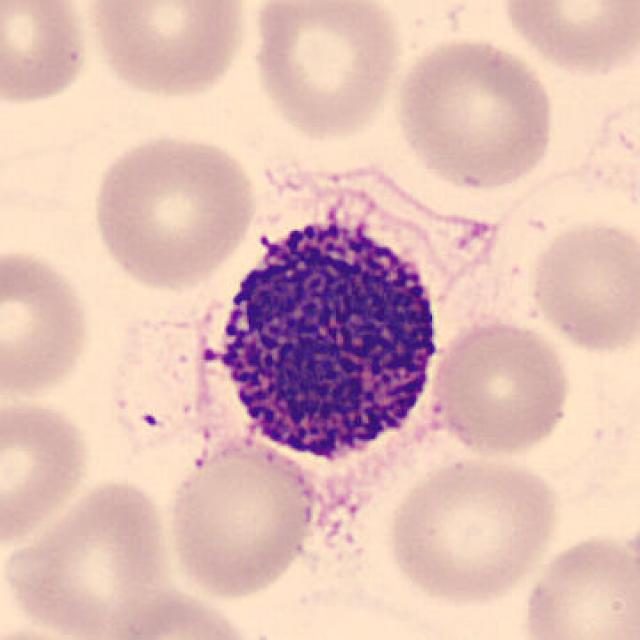Basophil: (188, 192, 457, 476)
RBC: (2, 474, 178, 638), (381, 453, 564, 608), (86, 129, 260, 291), (391, 33, 560, 194), (160, 439, 324, 601), (245, 0, 406, 143), (425, 316, 574, 458), (81, 0, 252, 102), (524, 213, 638, 356), (0, 242, 96, 402), (0, 391, 94, 552), (518, 527, 638, 640), (496, 0, 638, 78), (0, 0, 92, 111), (569, 86, 640, 228), (100, 585, 260, 640), (0, 624, 100, 640)
